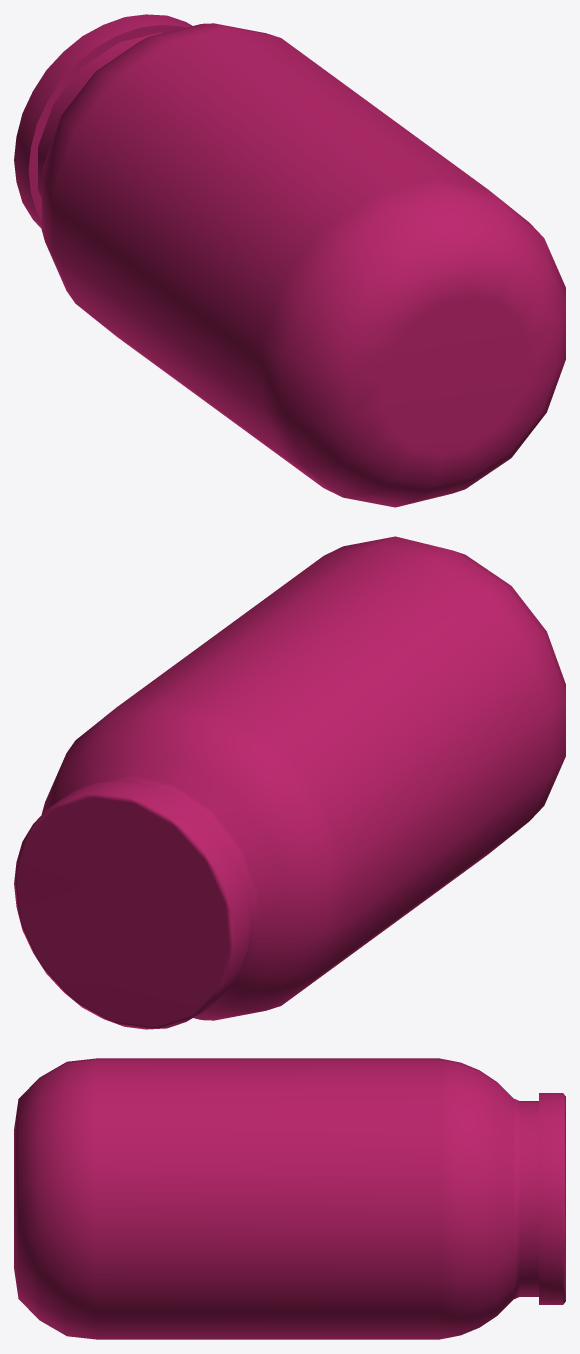
Rendered from SM_Dishes_03.fbx.
3 renders of one model, top to bottom at view 1: azimuth 30°, elevation 25°; view 2: azimuth 150°, elevation 25°; view 3: azimuth 270°, elevation 25°, orthographic. The views are drawn at different scales.
Visible parts, largest first — view 1: SM_Dishes_03; view 2: SM_Dishes_03; view 3: SM_Dishes_03.
Part boxes in pixels (x1,y1,x2,y2): SM_Dishes_03: [14, 14, 565, 507]; SM_Dishes_03: [14, 536, 565, 1029]; SM_Dishes_03: [14, 1058, 565, 1339].
Size of the model in its own units: 18.11 by 18.11 by 35.84.
